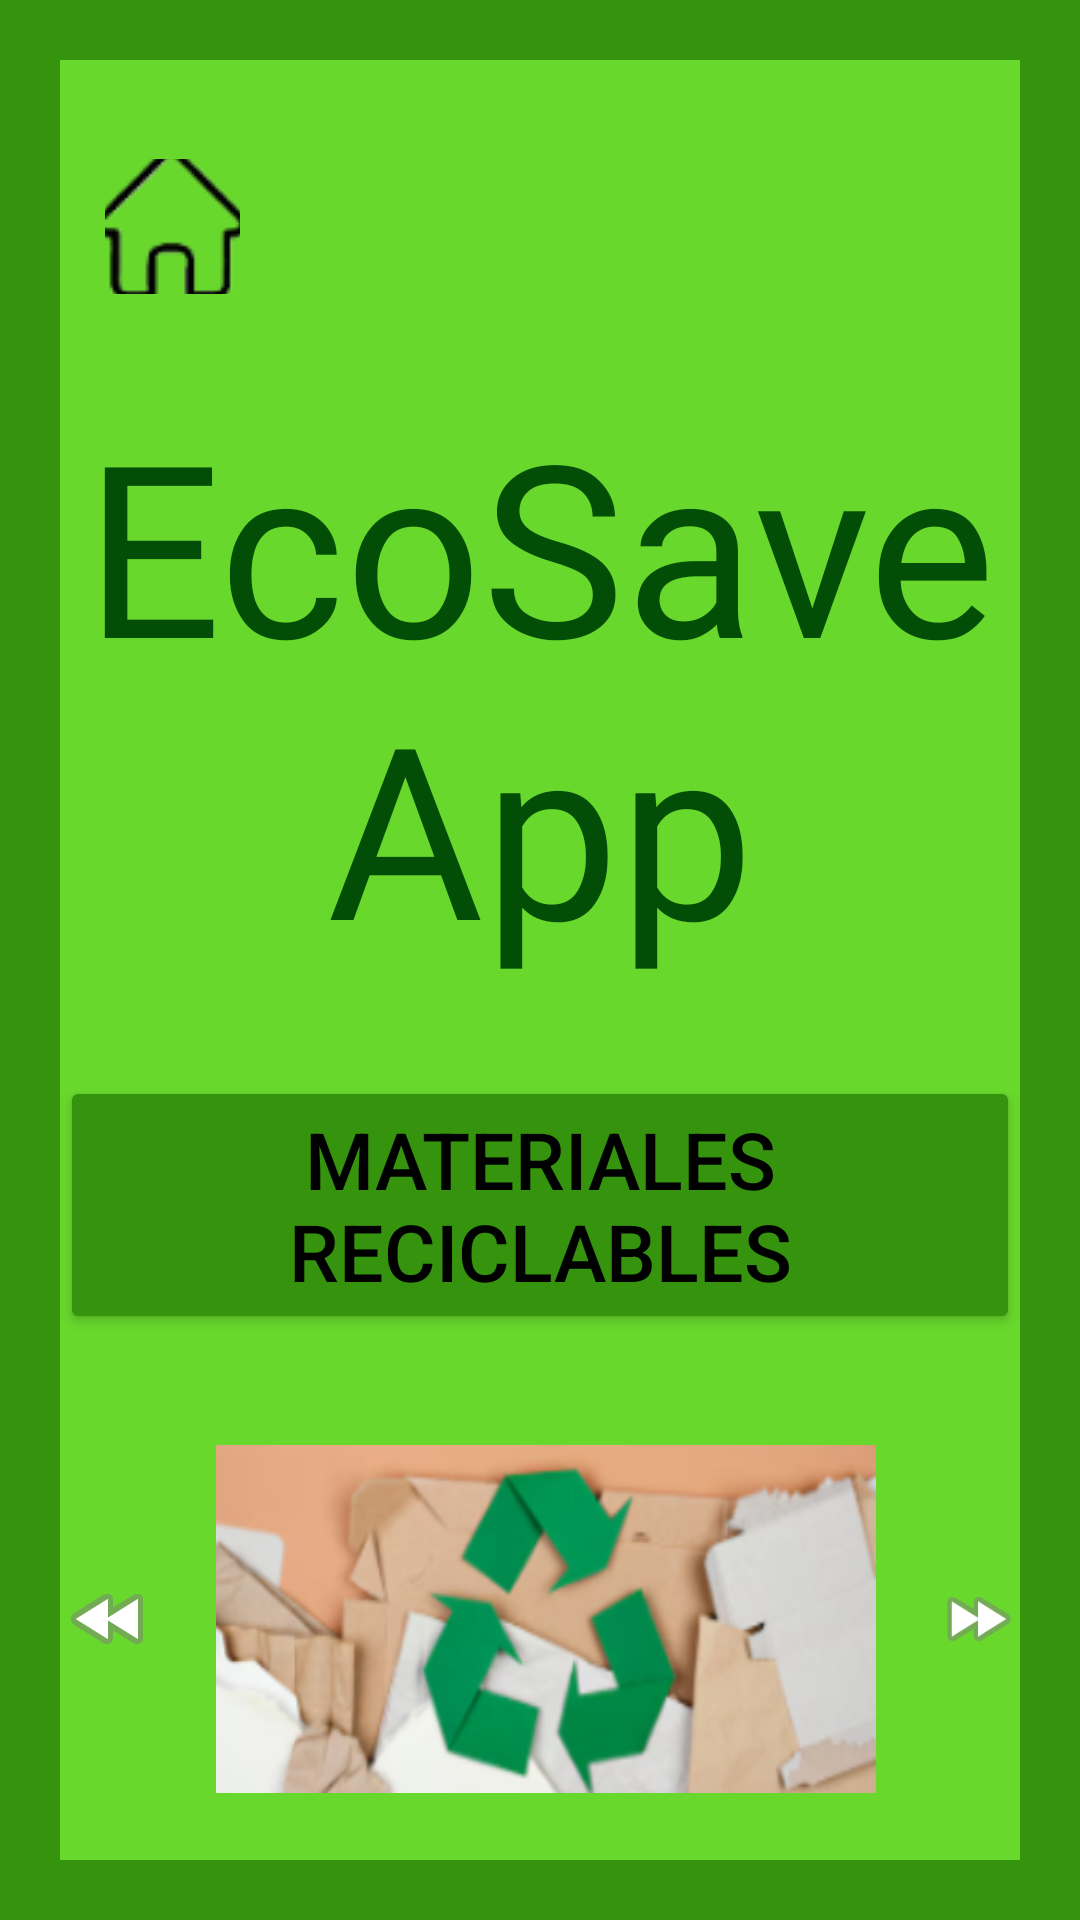

Icons on this 1080px x 1920px Android screen, each with its box as (x1, y1, x2, y2):
casa: (105, 159, 240, 294)
rew: (71, 1594, 143, 1644)
